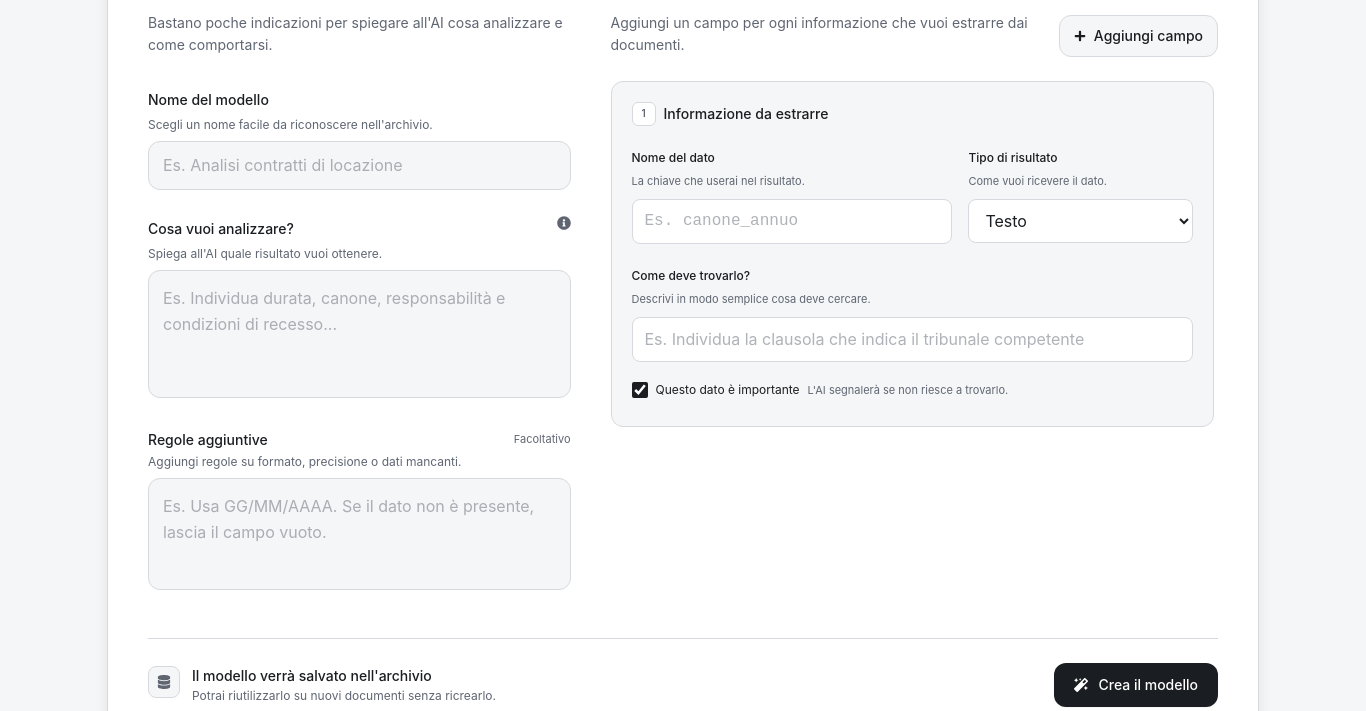
Test: PromptCreator Component Suite › Validazione Form e Invio Dati › mostra messaggi di errore se i campi obbligatori sono vuoti al submit
(page scrolled)
Click the button "Crea il modello". click: (1136, 685)
box: [1054,663,1218,707]
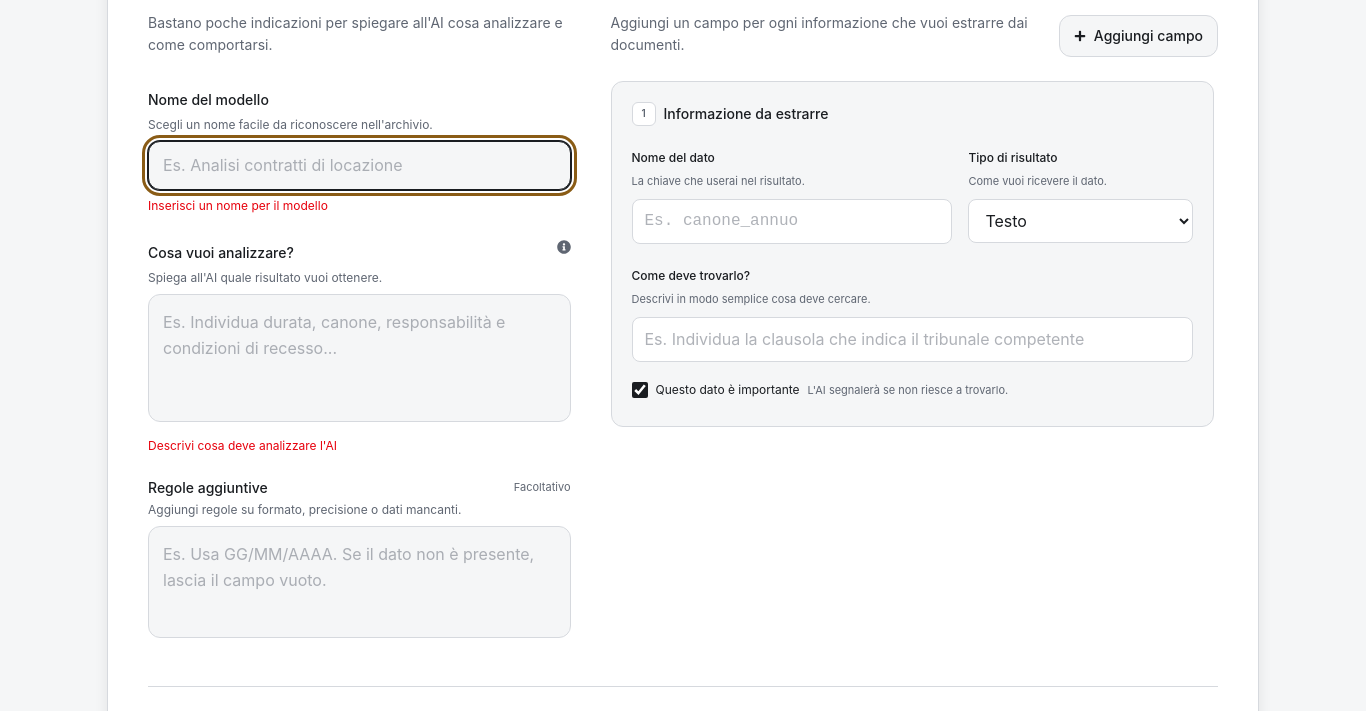
Expected: the text "Inserisci un nome per il modello" is shown, [148,198,328,213]
Expected: the text "Descrivi cosa deve analizzare l'AI" is shown, [148,438,337,453]
